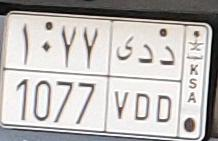0: (33, 39, 52, 121)
1: (16, 23, 30, 122)
7: (53, 26, 78, 125), (78, 26, 102, 125)
D: (155, 44, 176, 123), (135, 43, 154, 122)
V: (115, 35, 135, 121)
